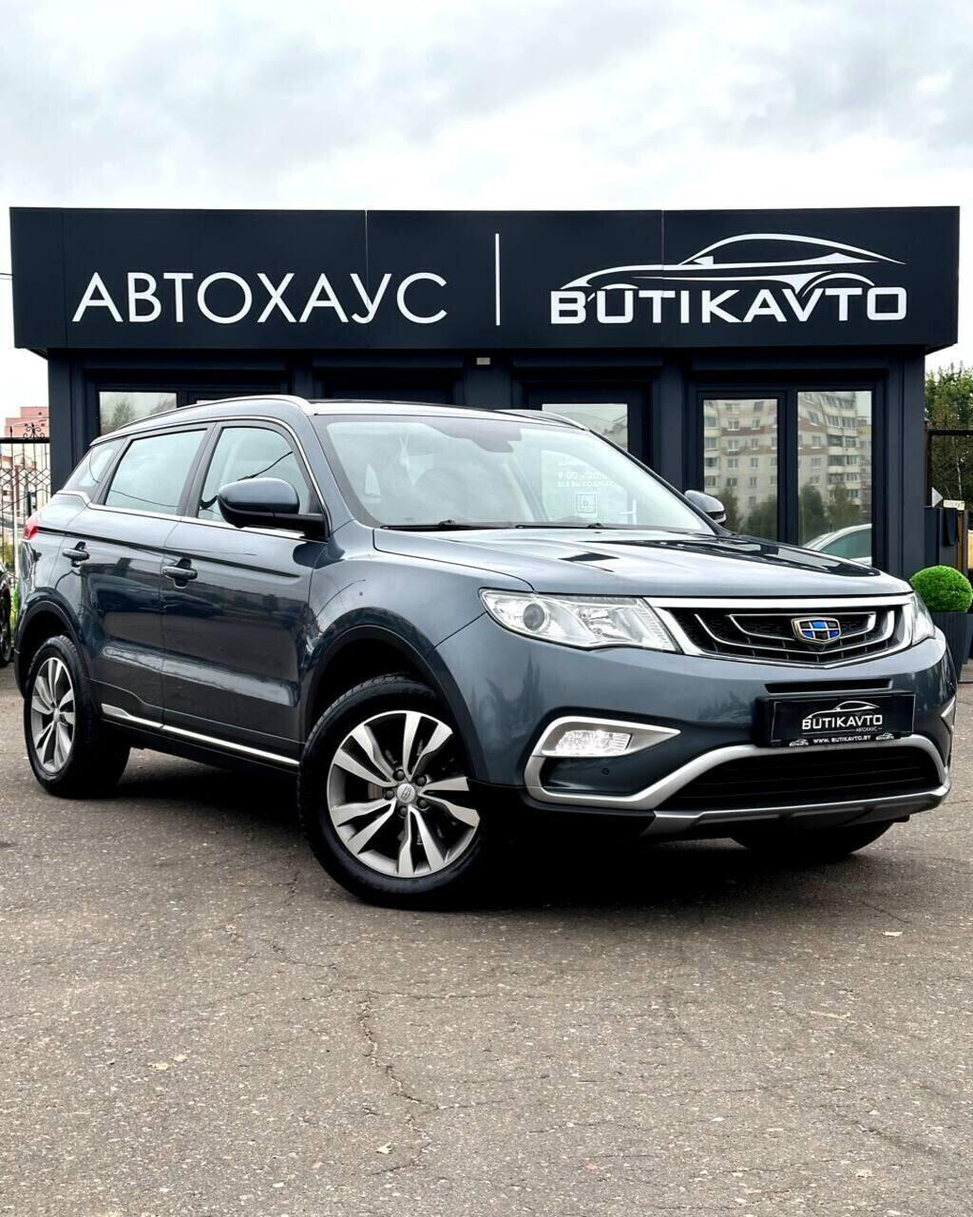Atlas_2016-2023: (8, 391, 964, 927)
